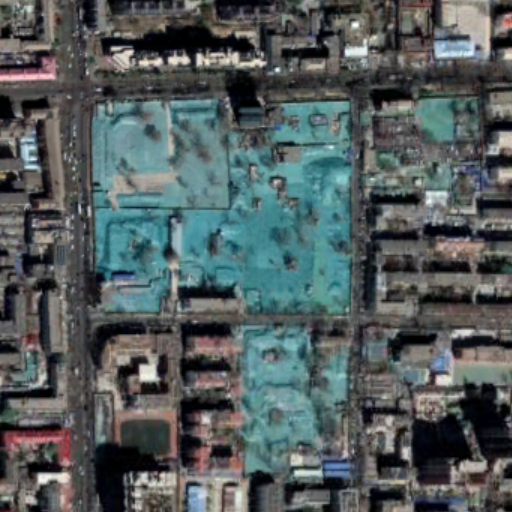cw: (91, 96, 355, 314), (237, 326, 351, 476), (371, 91, 483, 194)
